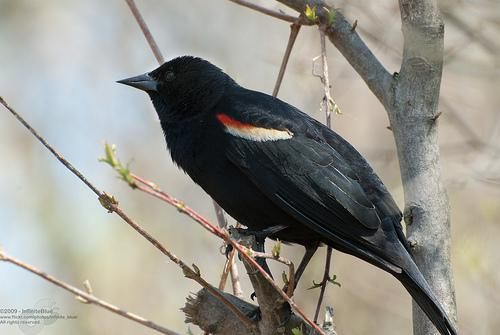010.Red_winged_Blackbird: (115, 55, 457, 335)
